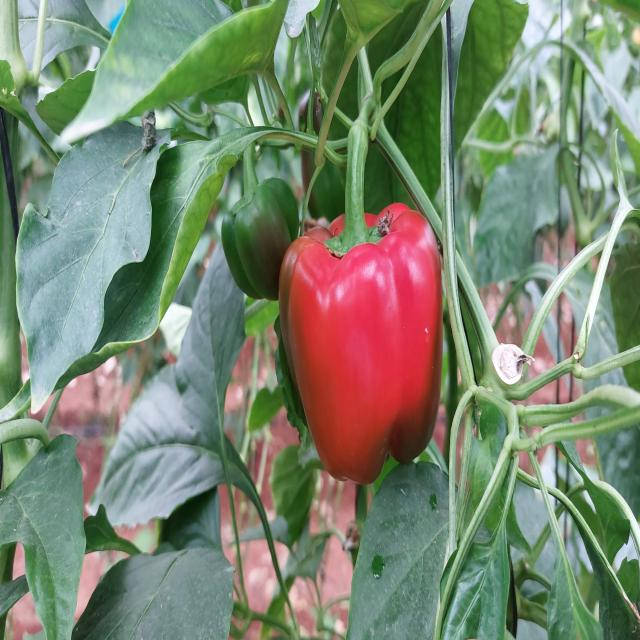Red-Ready-to-Harvest: (277, 209, 454, 494)
